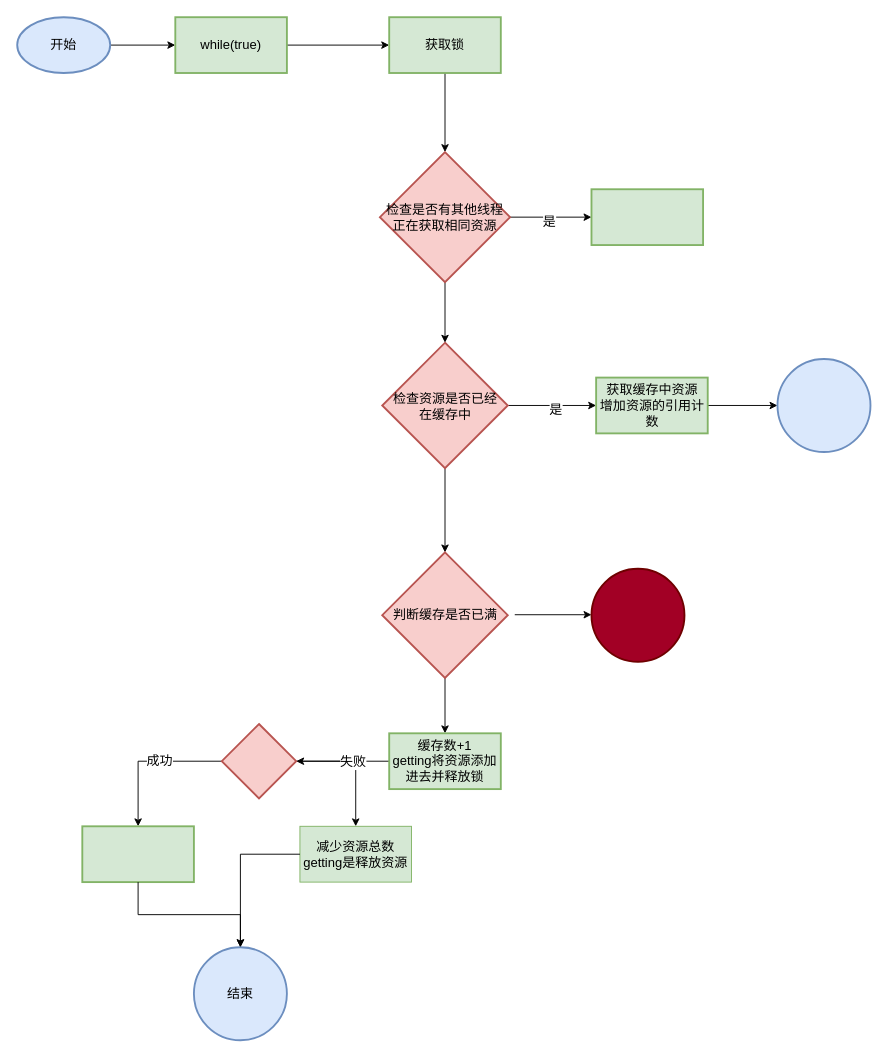
Some shapes in this 887 by 1056 pixel diagram are drawn without their labels. The shapes that lost their labels are listed below. From the top down, each one's centre as x and y in pixels, then its label:
At point (647, 217): "释放锁，等待一段时间重新获取资源".
At point (823, 405): "返回缓存中的资源".
At point (637, 614): "抛出缓存已满的异常".
At point (258, 761): "获取资源".
At point (137, 854): "将资源添加到缓存中 资源的引用计数+1".
